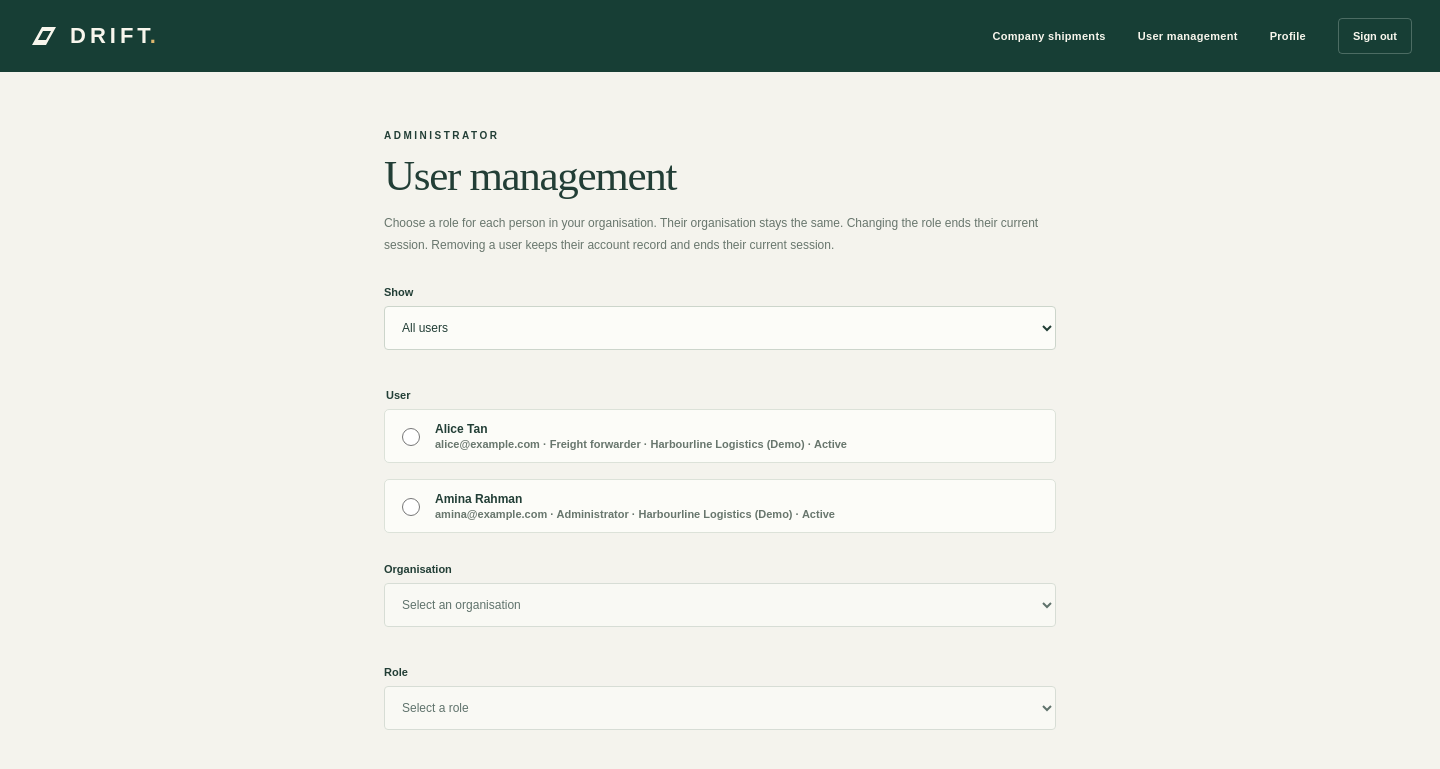
Test: account removal › shows a notice when no user matches the status
Select "Removed" in the dropdown labelled "Show" at [720, 328], box [384,306,1056,350]
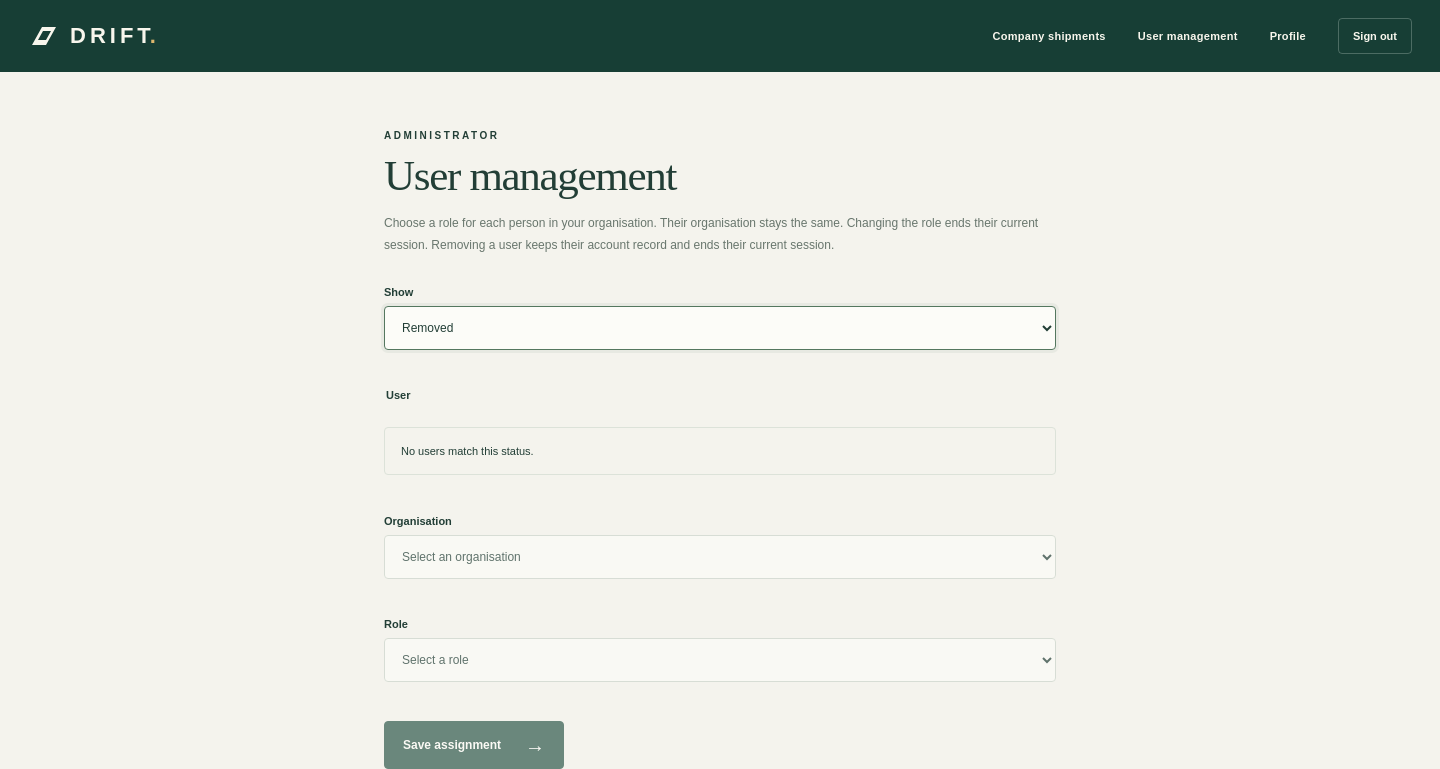
expect the text "No users match this status." is shown: met, box [384,427,1056,475]
